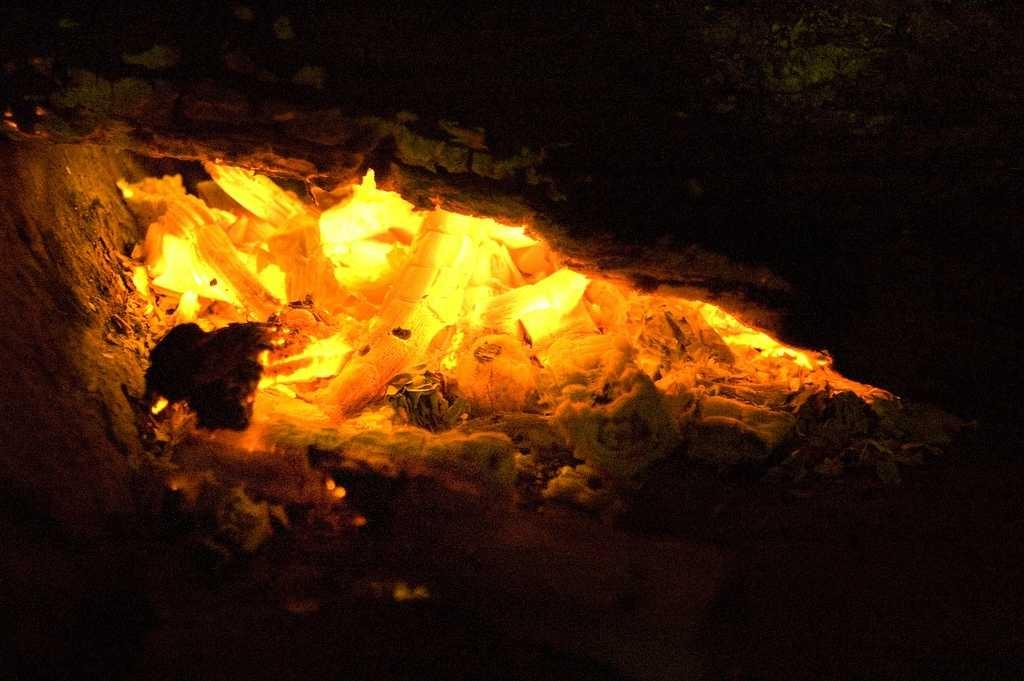fire: (330, 182, 398, 275), (440, 210, 498, 317), (158, 233, 223, 298), (515, 280, 575, 327)
